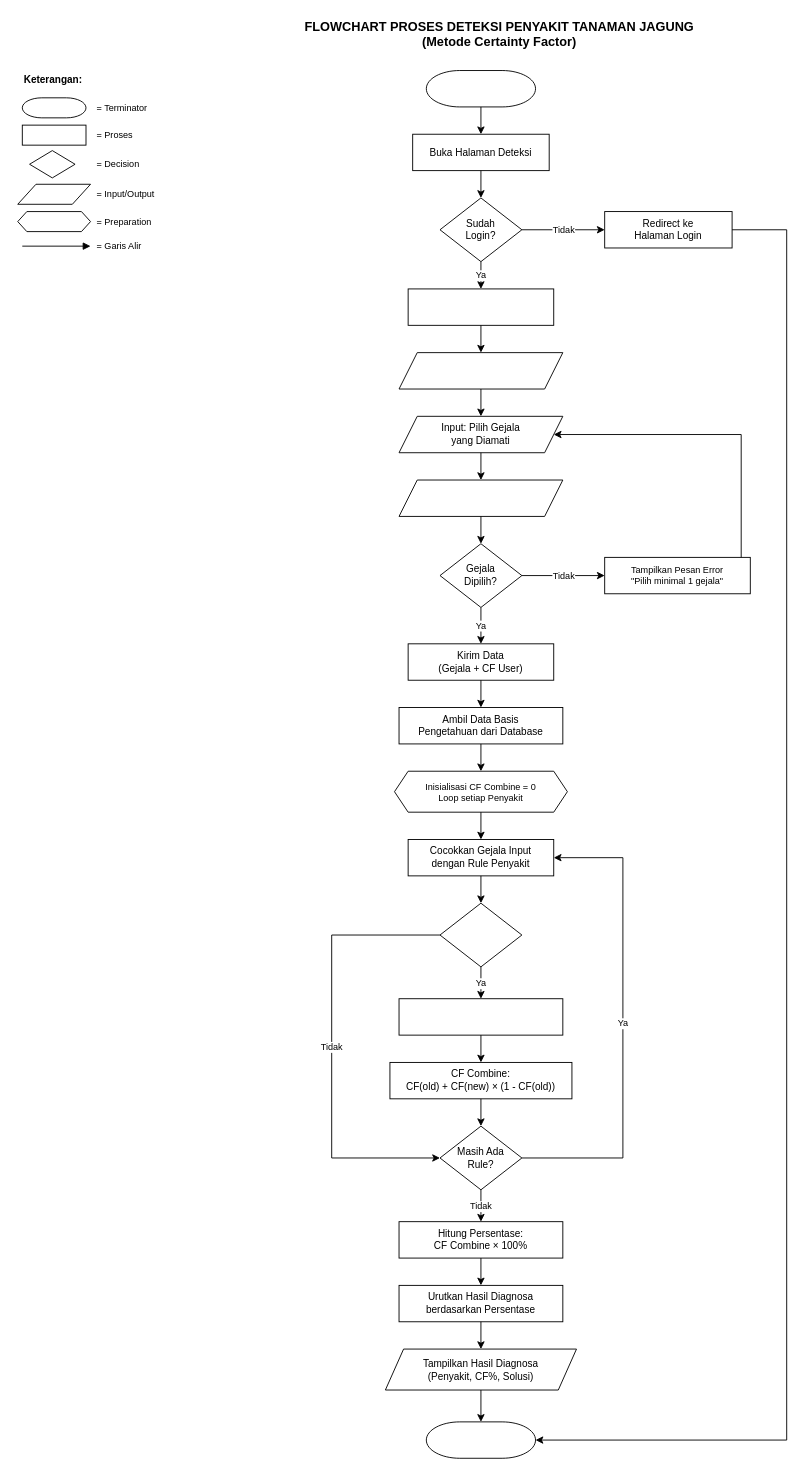
The diagram is 810 pixels wide and 1474 high, and some of its shapes have lost their labels. Here are the shapes that lost their labels. From the top down, the centre of each, then its label:
the point at 480,88: Mulai
the point at 480,306: Ambil Data Gejala dari Database
the point at 480,370: Tampilkan Daftar Gejala
the point at 480,497: Input: Tingkat Kepastian (CF User)
the point at 480,934: Gejala Cocok?
the point at 480,1016: Hitung CF Gejala: CF = CF User × CF Pakar
the point at 480,1439: Selesai
